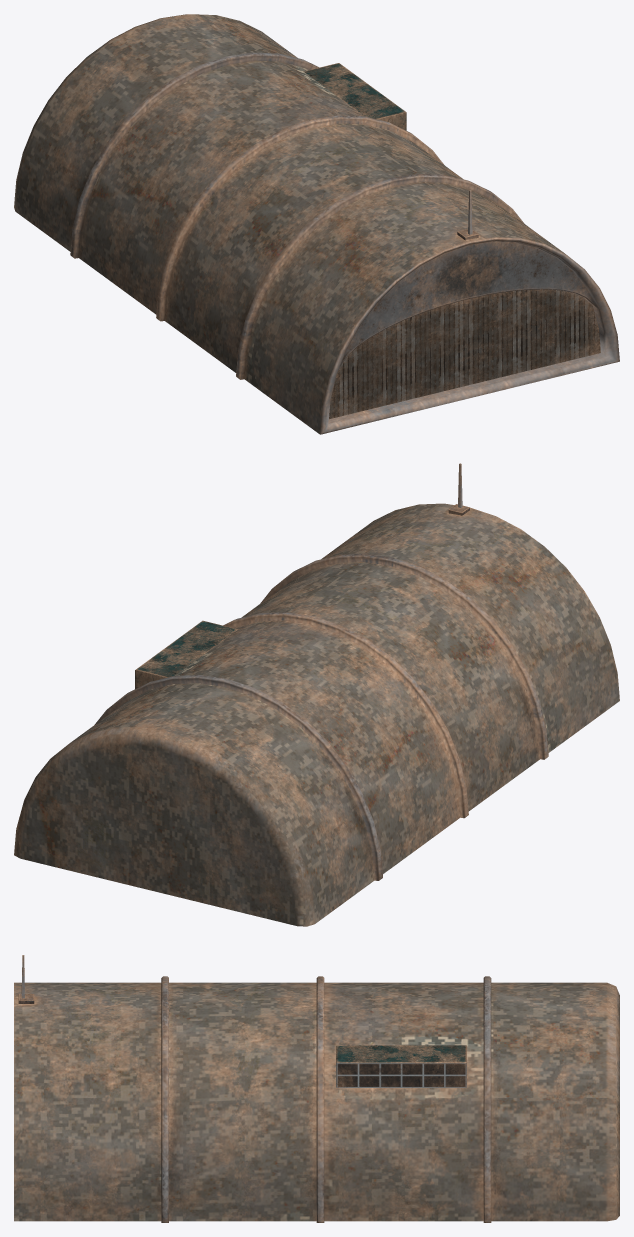
File: hangar_bg.glb
The picture shows the model from 3 angles, top to bottom: view 1: azimuth 30°, elevation 25°; view 2: azimuth 150°, elevation 25°; view 3: azimuth 270°, elevation 25°; orthographic projection. The views are drawn at different scales.
Visible parts, largest first — view 1: Object_3, Object_2; view 2: Object_3, Object_2; view 3: Object_3, Object_2.
Boxes of the visible parts, <box> form: Object_3: <box>14,14,619,434</box>; Object_2: <box>303,63,600,419</box>; Object_3: <box>14,503,619,926</box>; Object_2: <box>135,463,469,688</box>; Object_3: <box>14,976,619,1222</box>; Object_2: <box>18,955,466,1087</box>.
Bounding box in the file's own units: 1279 × 799 × 2224.
2 materials, 2 textured.
